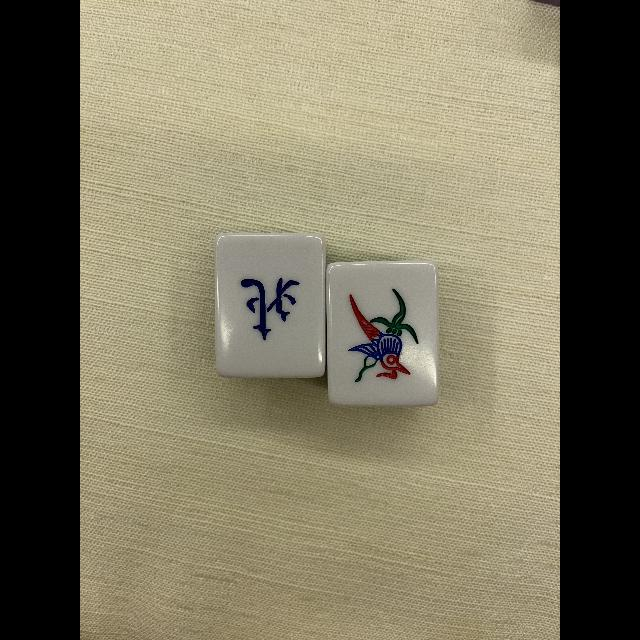b1: (330, 264, 438, 404)
wn: (220, 236, 320, 374)
